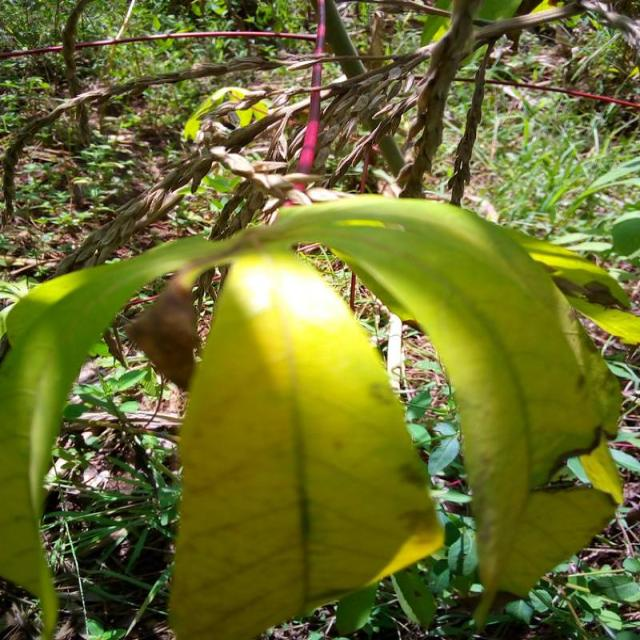cassava leaf: (1, 193, 631, 638), (166, 248, 444, 638)
